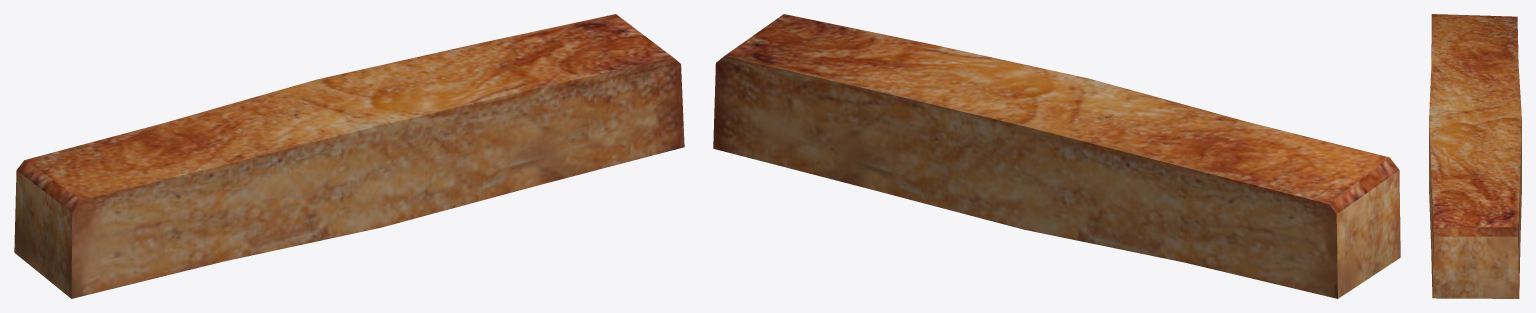
File: food-bread03.glb
3 views of the same model, side by side, from view 1: azimuth 30°, elevation 25°; view 2: azimuth 150°, elevation 25°; view 3: azimuth 270°, elevation 25° (orthographic). The views are drawn at different scales.
Parts seen in each view (by area): view 1: food-bread03; view 2: food-bread03; view 3: food-bread03.
Boxes of the visible parts, left/top/right/bottom form: food-bread03: left=14, top=14, right=684, bottom=298; food-bread03: left=713, top=14, right=1400, bottom=298; food-bread03: left=1429, top=14, right=1521, bottom=298.
Bounding box in the file's own units: 0.7892 × 0.1257 × 0.1412.
Materials: 1 (1 with a texture image).
